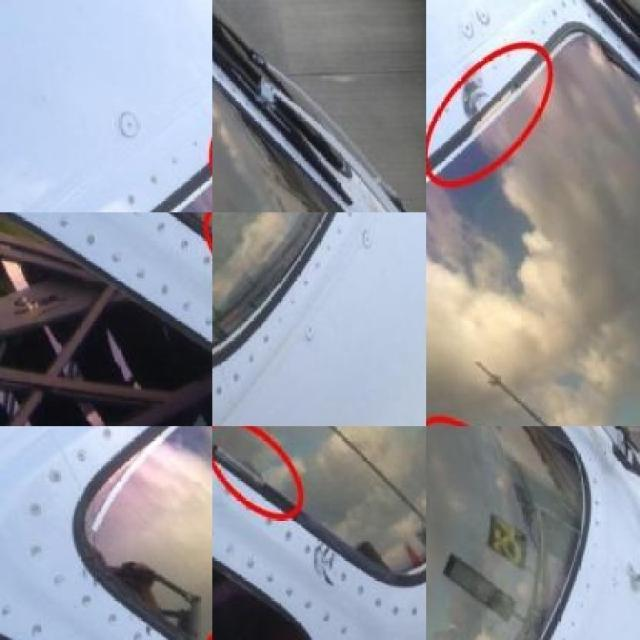crack: (315, 544, 335, 589)
